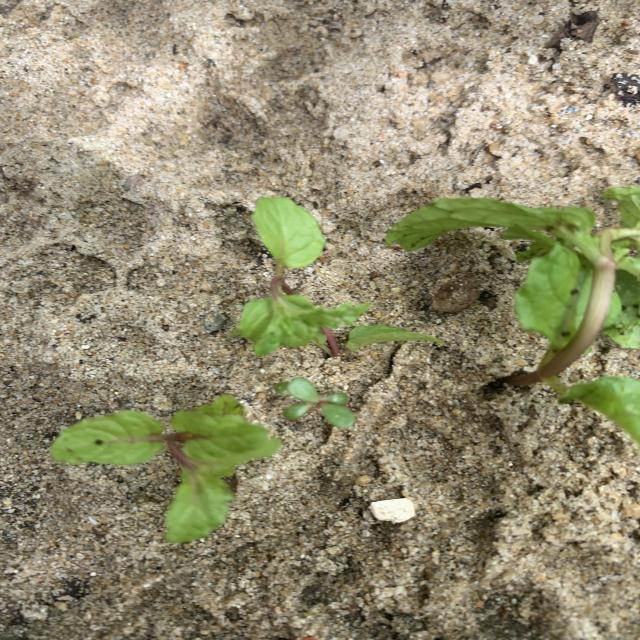crop: (386, 187, 638, 443), (233, 197, 444, 357), (52, 396, 278, 543)
weed: (274, 378, 355, 427)
